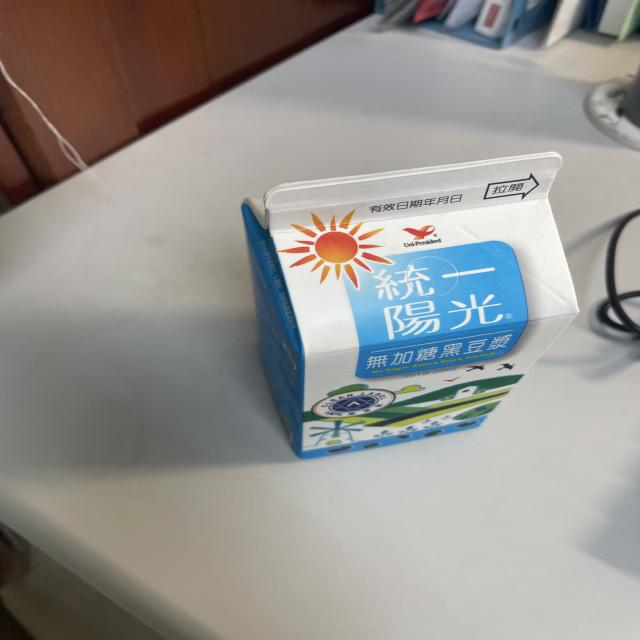TongYi_UnsweetenedBlackSoyMilk: (236, 144, 586, 462)
